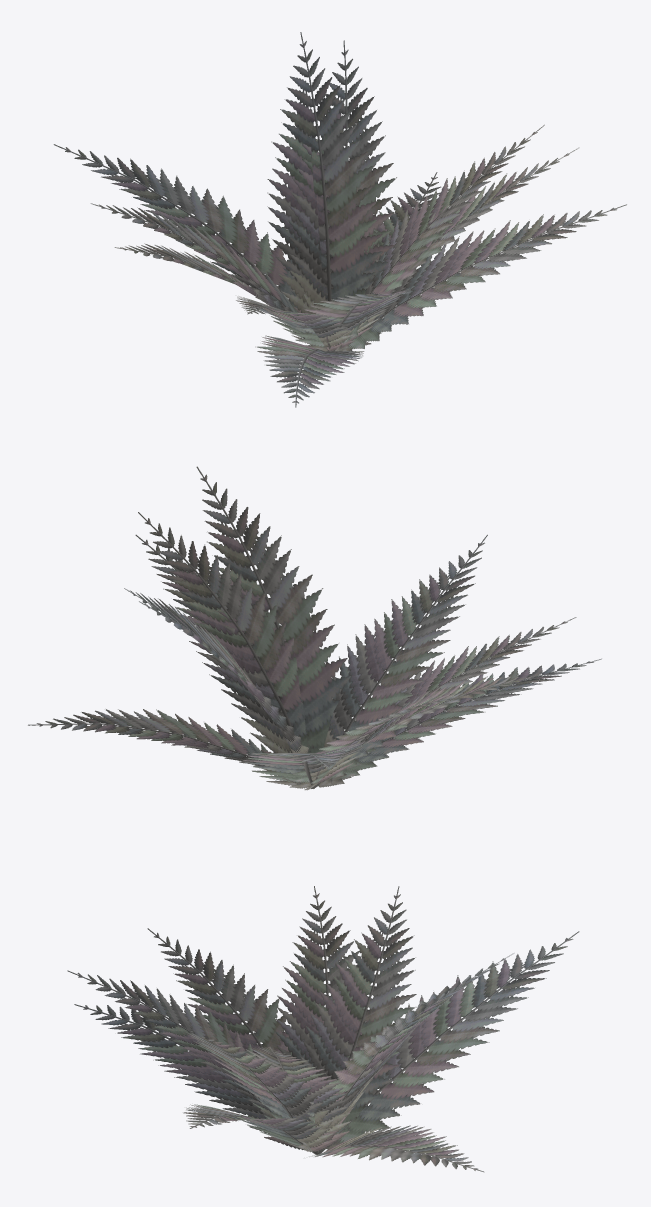
The model's file is tree_fern_l0.gltf.
3 views of the same model, one above another, from view 1: azimuth 30°, elevation 25°; view 2: azimuth 150°, elevation 25°; view 3: azimuth 270°, elevation 25° (orthographic). The views are drawn at different scales.
Visible parts, largest first — view 1: tree_fern_l0; view 2: tree_fern_l0; view 3: tree_fern_l0.
Part boxes in pixels (box(x1,y1,x2,y2)): tree_fern_l0: box(53, 32, 626, 407); tree_fern_l0: box(28, 466, 601, 790); tree_fern_l0: box(67, 886, 579, 1172).
Bounding box in the file's own units: 4.17 × 2.17 × 4.6.
1 material, 1 textured.
